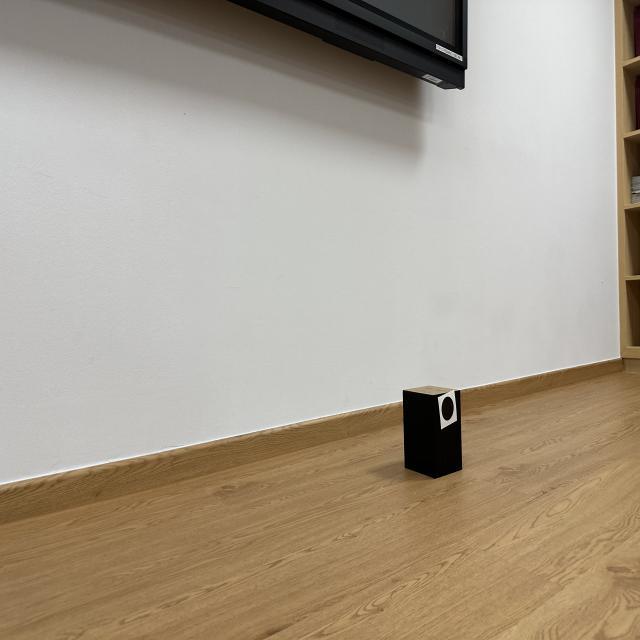CIRCLE: (441, 397, 454, 420)
